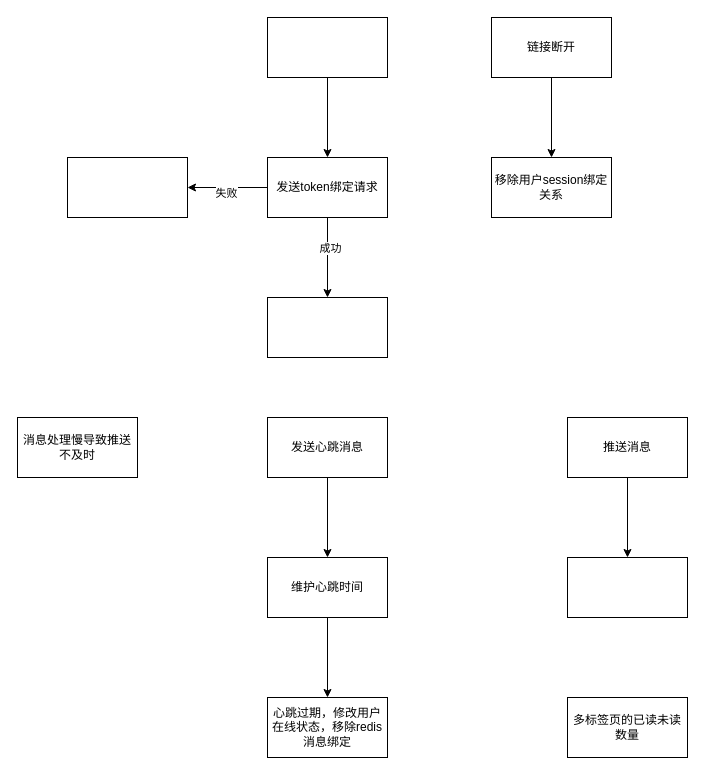
This 705x775 diagram has some shape labels left out. Each missing label, with the centre of its shape:
"使用redis pub/sub 采用广播的方式，服务器根据收到的消息自行处理单个发送还是批量发送" goes at (627,587).
"发起ws连接" goes at (327,47).
"提示失败" goes at (127,187).
"维护用户与session关系" goes at (327,327).
